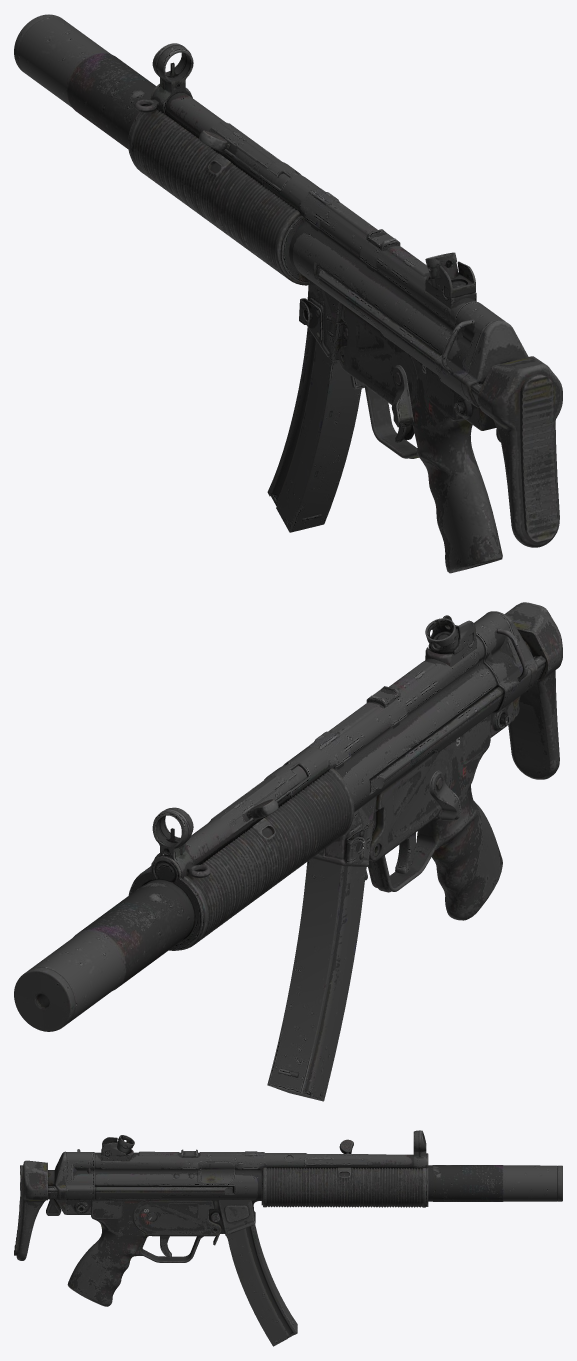
The picture shows the model from 3 angles, top to bottom: view 1: azimuth 30°, elevation 25°; view 2: azimuth 150°, elevation 25°; view 3: azimuth 270°, elevation 25°; orthographic projection. The views are drawn at different scales.
Parts seen in each view (by area): view 1: v_mp5_R; view 2: v_mp5_R; view 3: v_mp5_R.
Boxes of the visible parts, x1,y1,x2,y2 form: v_mp5_R: [14, 14, 562, 573]; v_mp5_R: [14, 602, 562, 1101]; v_mp5_R: [14, 1130, 562, 1346].
Size of the model in its own units: 0.067 by 0.3024 by 0.7138.
Materials: 1 (1 with a texture image).
